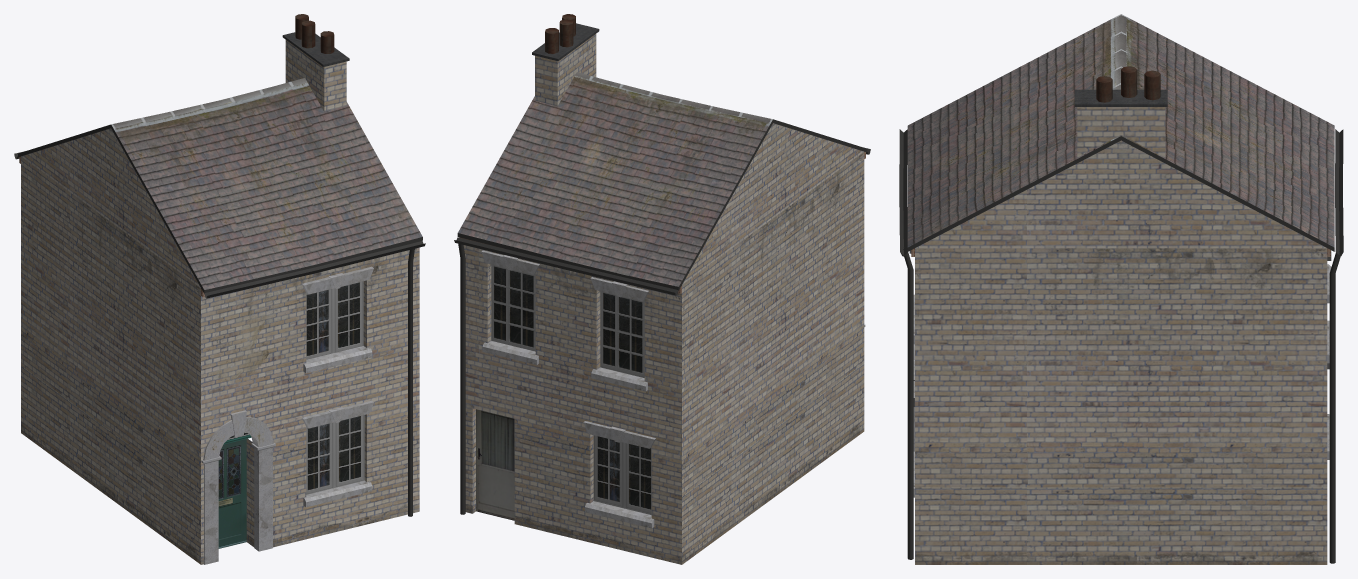
File: ukterracedvictorian7m.FBX
3 renders of one model, left to right at view 1: azimuth 30°, elevation 25°; view 2: azimuth 150°, elevation 25°; view 3: azimuth 270°, elevation 25°, orthographic. The views are drawn at different scales.
Visible parts, largest first — view 1: Object003; view 2: Object003; view 3: Object003.
Part boxes in pixels (x1,y1,x2,y2): Object003: (14, 14, 425, 564); Object003: (454, 14, 870, 564); Object003: (899, 14, 1343, 564).
Size of the model in its own units: 560 by 1040 by 862.
